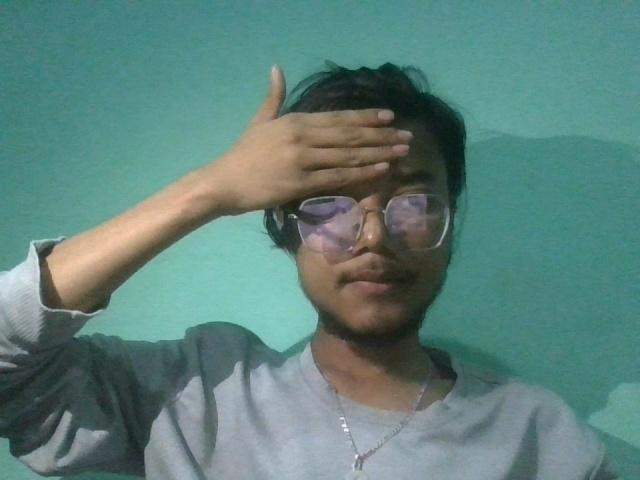forget: (206, 53, 439, 228)
